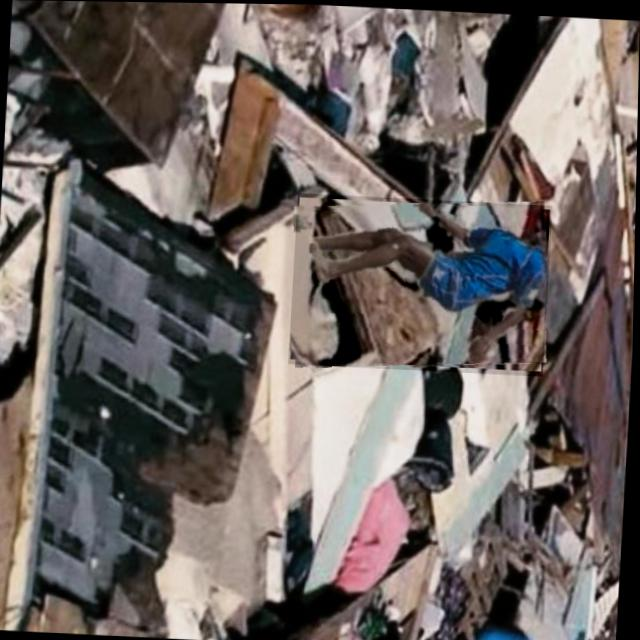Person in Rubble: (288, 191, 552, 374)
